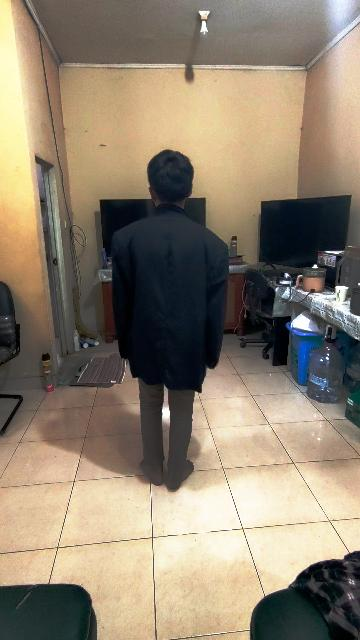berdiri: (113, 145, 227, 492)
